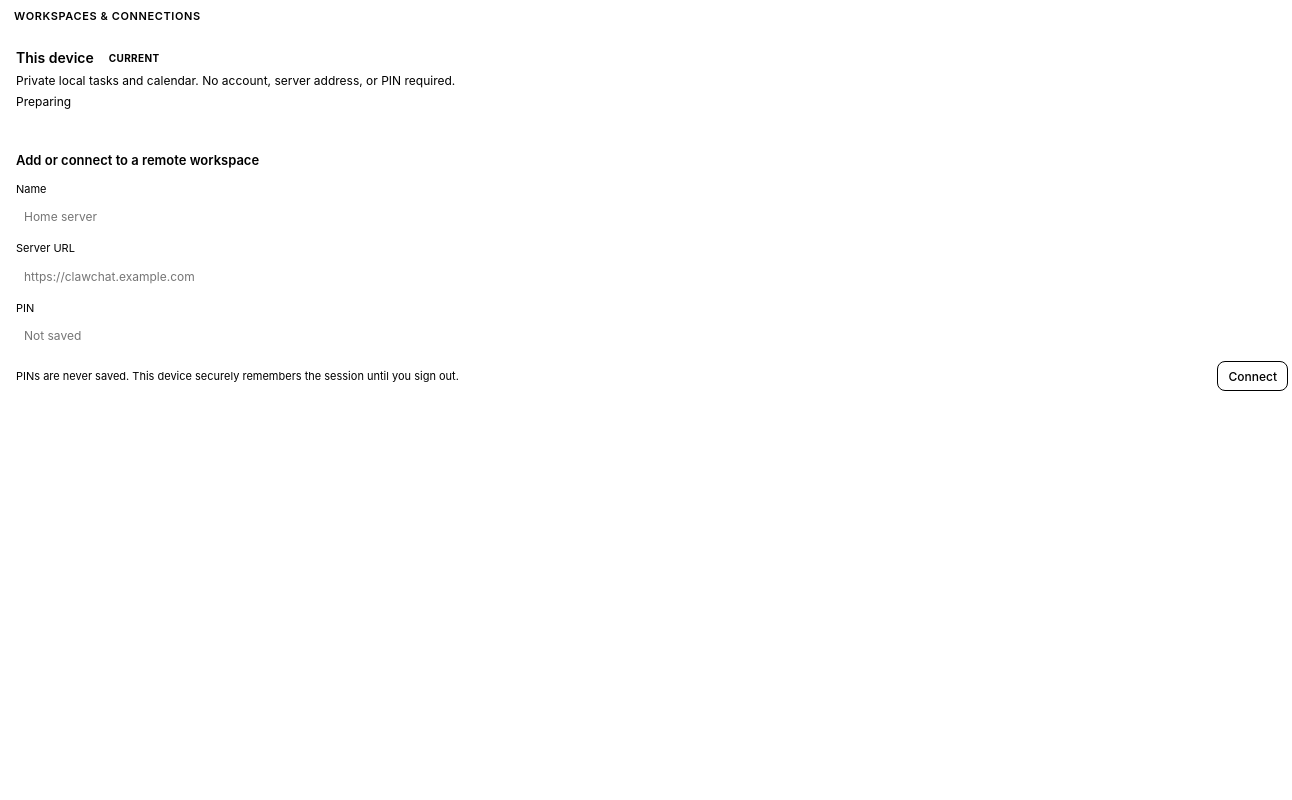
Test: WorkspaceConnectionsSection › restores the prior workspace if secure session persistence fails
The width and height of the screenshot is (1292, 800).
Type "https://work.example" into the field with placeholder "https://clawchat.example.com".
click(652, 276); type("https://work.example")  # box left=16, top=263, right=1288, bottom=290
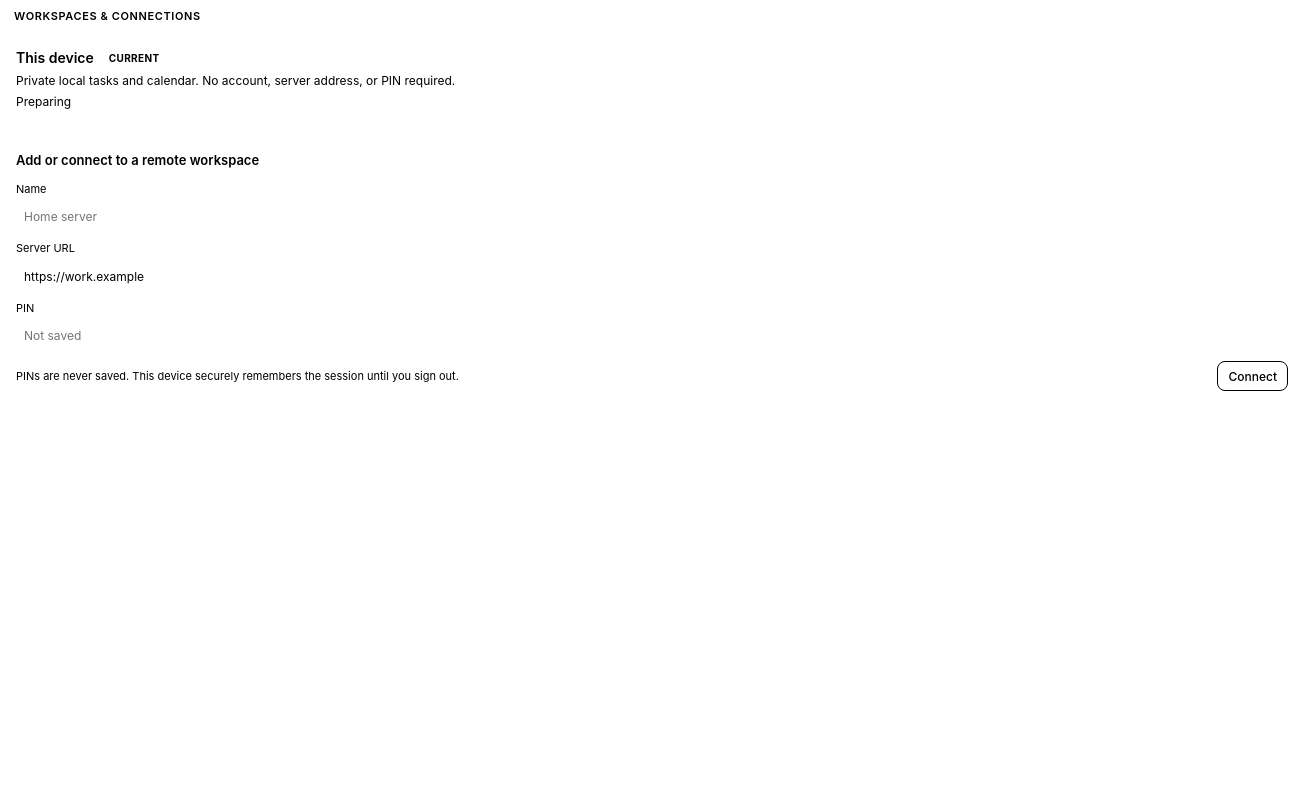
Type "654321" into the password field with placeholder "Not saved".
click(652, 336); type("654321")  # box left=16, top=322, right=1288, bottom=349
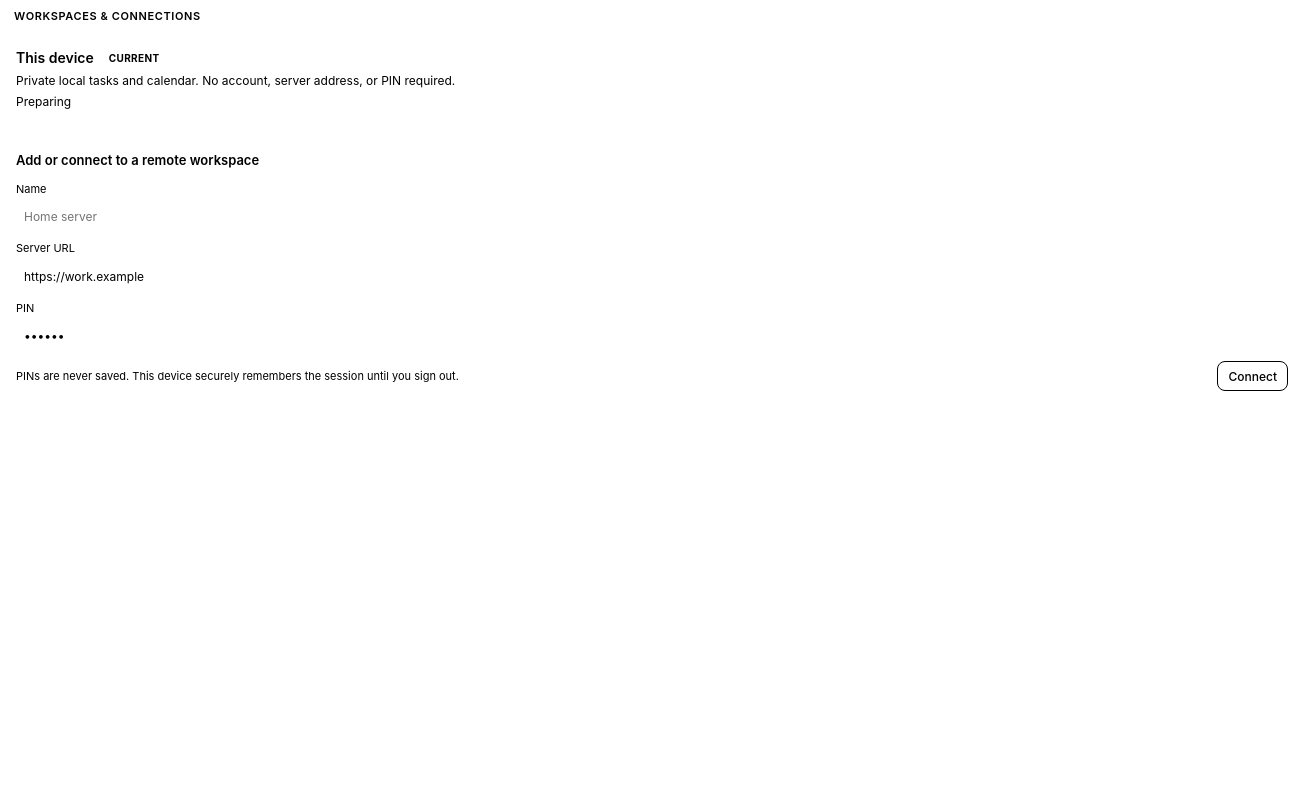
Click the button "Connect".
click(1253, 376)  # box left=1218, top=361, right=1288, bottom=391
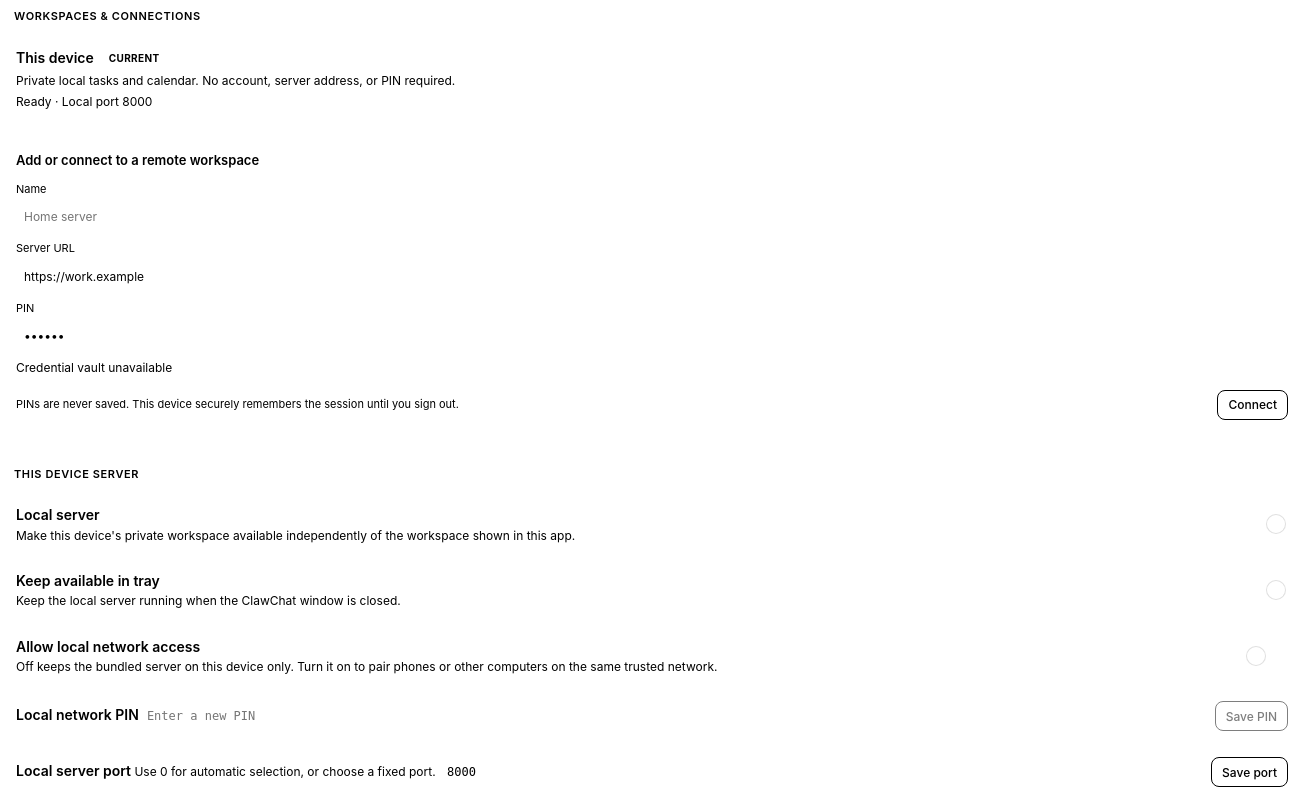
expect the text "Credential vault unavailable" is shown: met, box left=16, top=360, right=172, bottom=375
